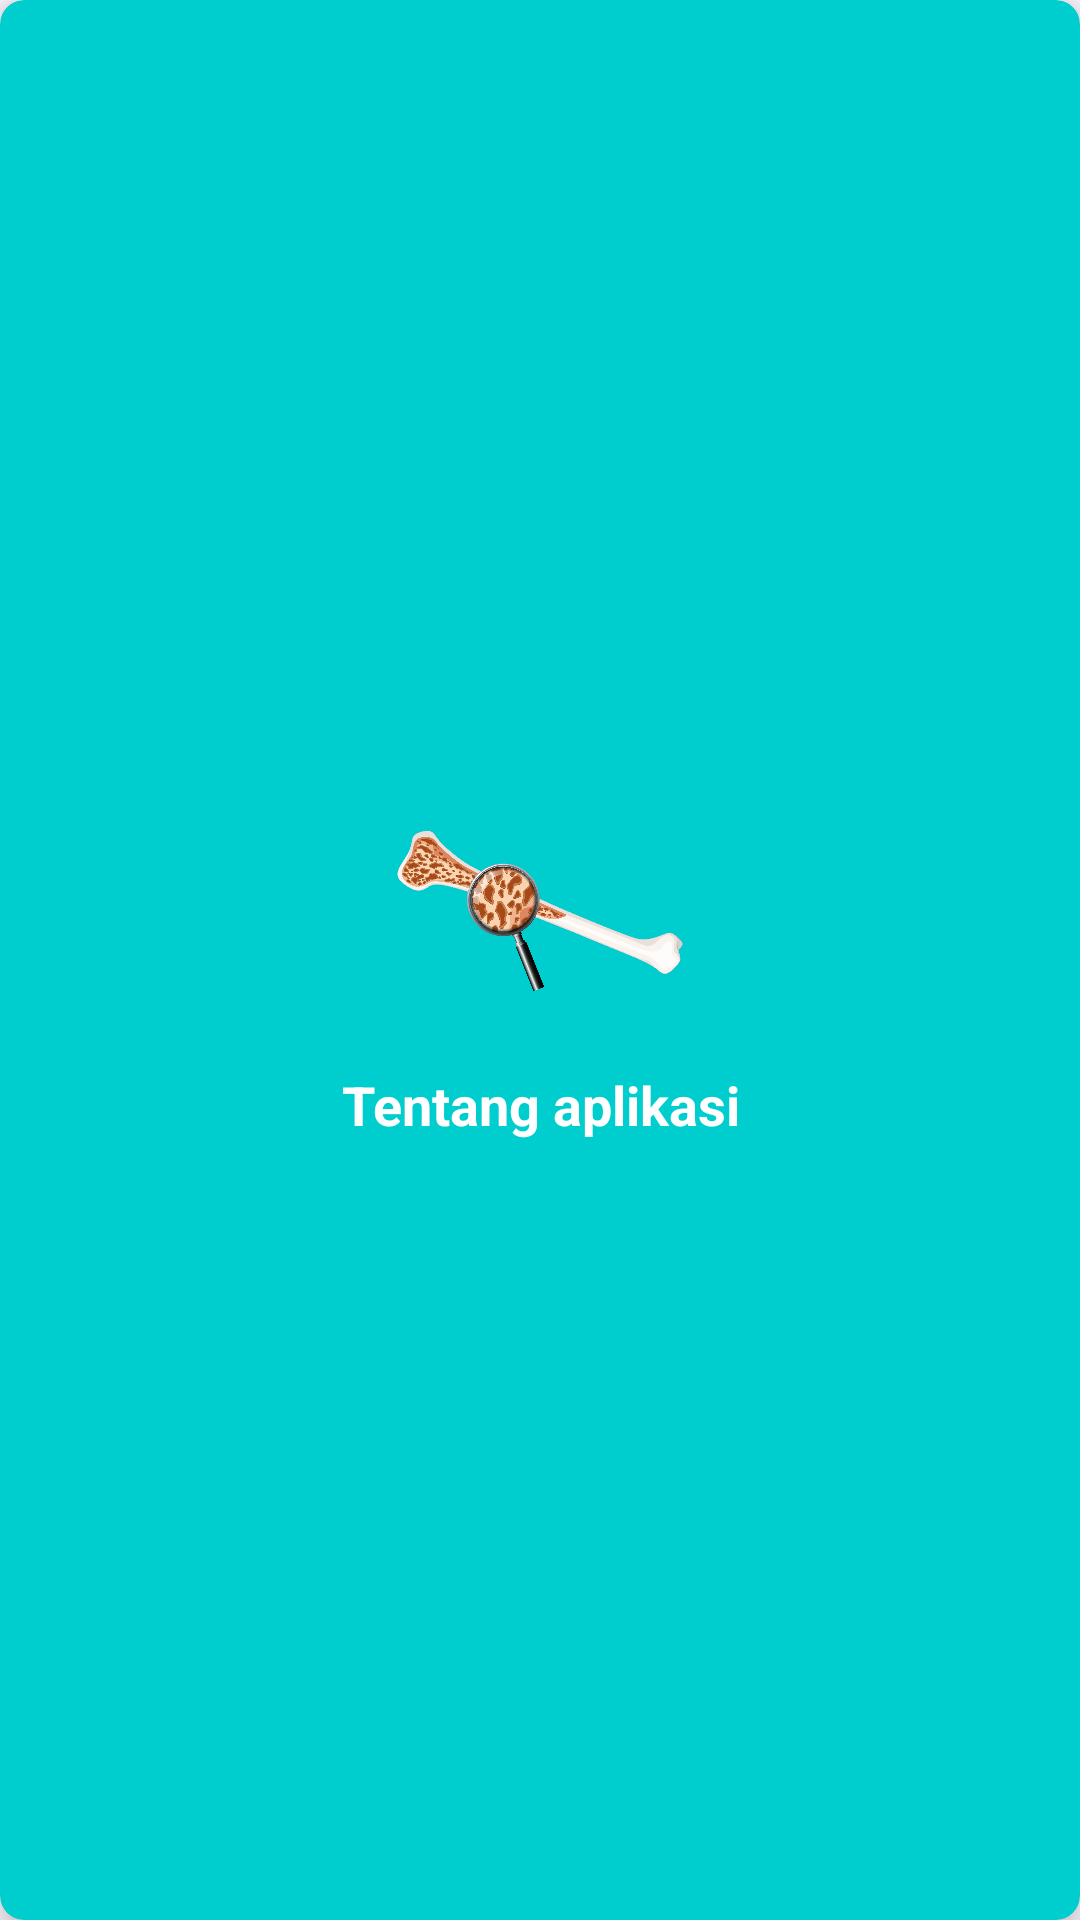

Screen size 1080px x 1920px. Icon name, then its center in pixels as (x,y):
ost: (540,911)
